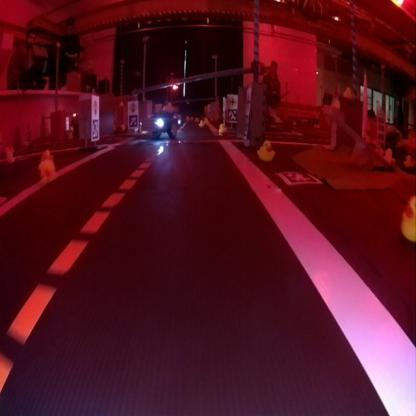Duckie: (400, 195, 414, 243), (258, 140, 274, 155)
Duckiebot: (140, 112, 180, 138)
Intersection sign: (228, 95, 236, 107)
QR code: (242, 115, 249, 138), (91, 118, 98, 139), (227, 109, 236, 121), (129, 115, 137, 127)
Signal sign: (92, 97, 98, 117), (129, 101, 137, 112)
Traffic light: (172, 78, 178, 89)
